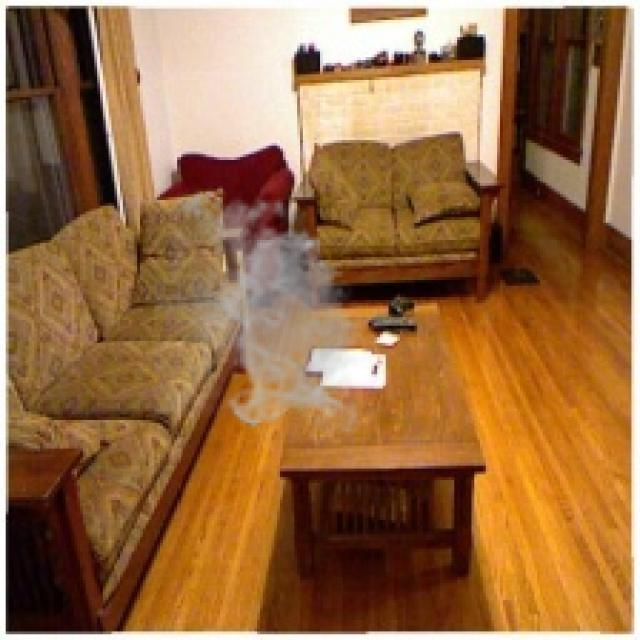Smoke: (154, 182, 369, 432)
